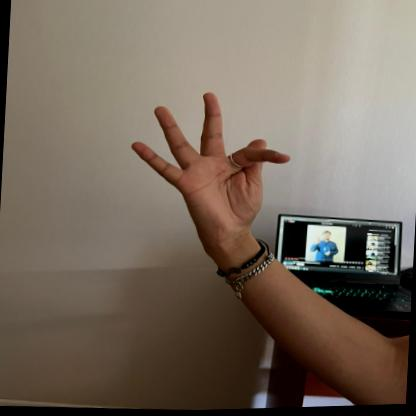F: (120, 86, 296, 242)
